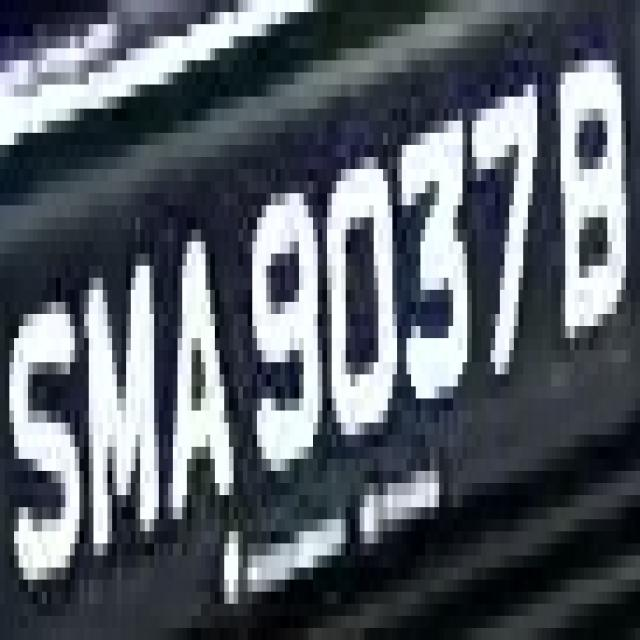0: (313, 121, 402, 447)
3: (388, 96, 477, 398)
7: (458, 85, 551, 422)
9: (234, 157, 332, 507)
A: (163, 193, 243, 568)
B: (547, 36, 626, 362)
M: (79, 217, 173, 592)
S: (18, 253, 88, 640)
